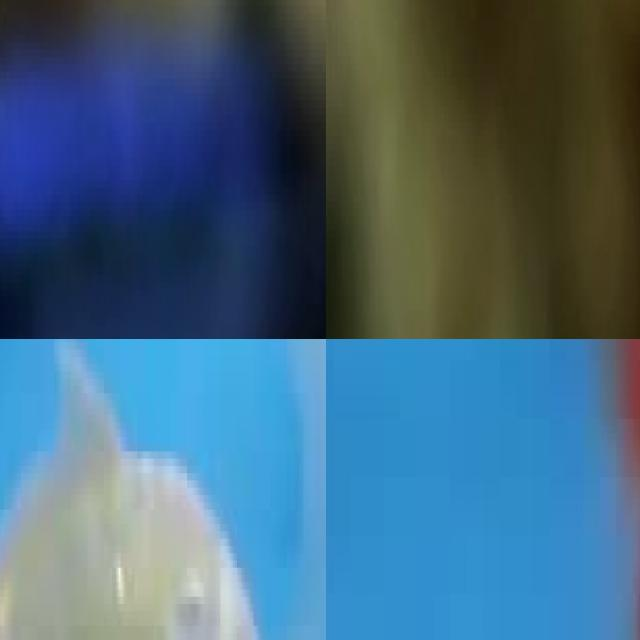fish: (0, 0, 326, 339), (116, 339, 326, 640)
